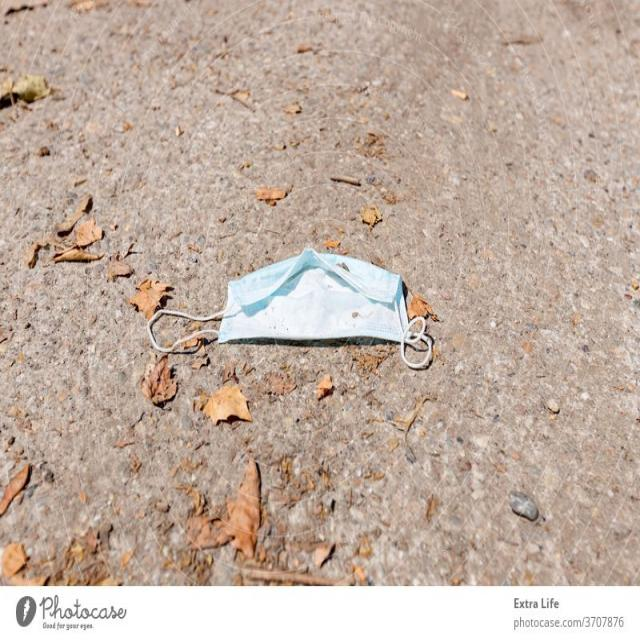non-organic waste: (148, 240, 436, 376)
